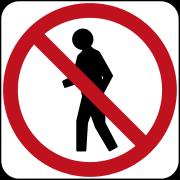Pedestrian Prohibited: (11, 4, 170, 172)
